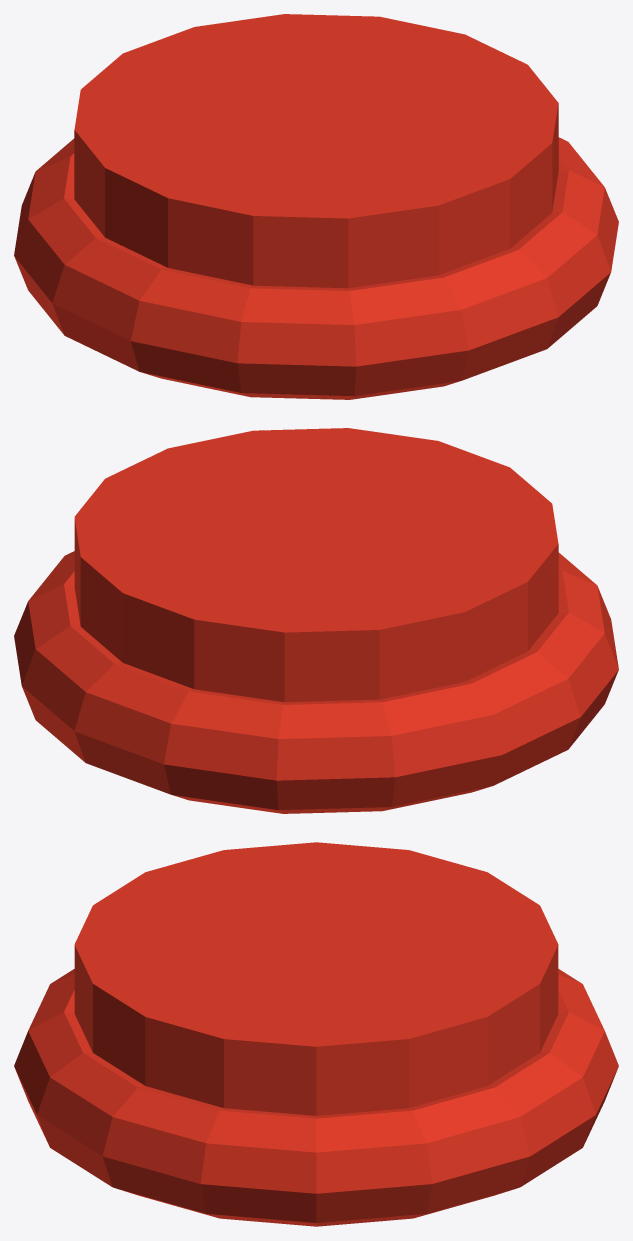
Rendered from RedButton.fbx.
The picture shows the model from 3 angles, top to bottom: view 1: azimuth 30°, elevation 25°; view 2: azimuth 150°, elevation 25°; view 3: azimuth 270°, elevation 25°; orthographic projection.
Parts seen in each view (by area): view 1: Cylinder, Torus; view 2: Cylinder, Torus; view 3: Cylinder, Torus.
Boxes of the visible parts, <box> form: Cylinder: <box>74,14,558,288</box>; Torus: <box>14,137,618,399</box>; Cylinder: <box>74,428,558,702</box>; Torus: <box>14,551,618,813</box>; Cylinder: <box>74,842,558,1115</box>; Torus: <box>14,969,618,1226</box>.
Bounding box in the file's own units: 67.54 × 21.61 × 67.54.
